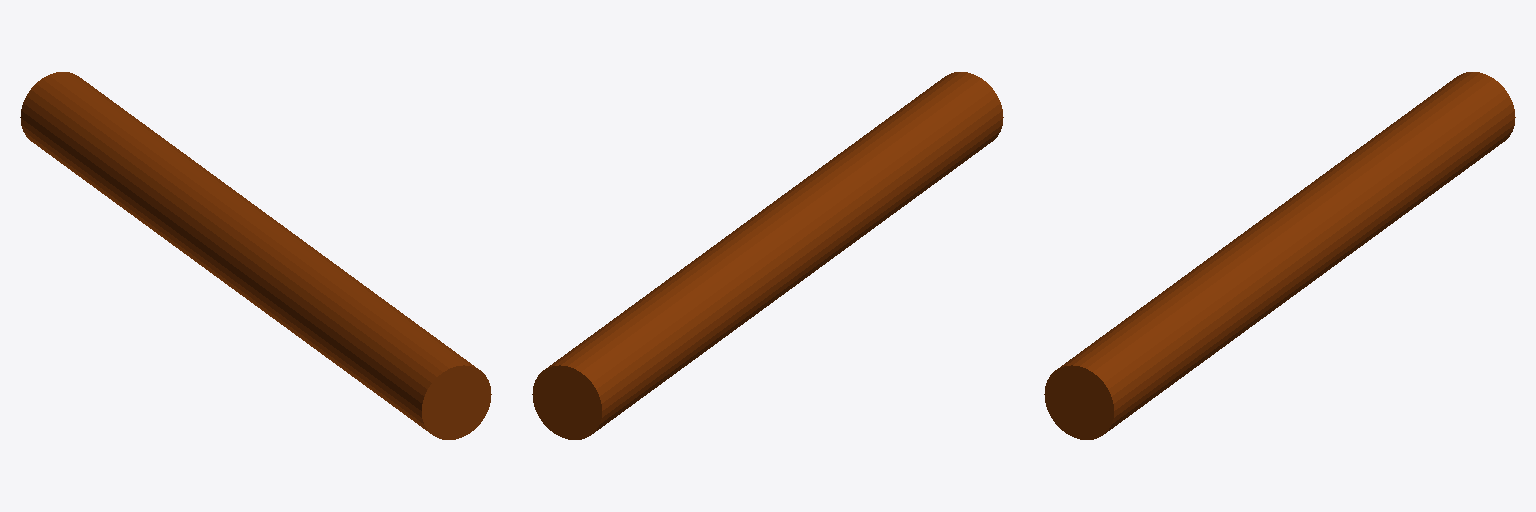
The robot description file, URDF, robot "cylinder":
<?xml version="1.0" ?>
<!-- =================================================================================== -->
<!-- |    This document was autogenerated by xacro from cylinder.xacro                 | -->
<!-- |    EDITING THIS FILE BY HAND IS NOT RECOMMENDED                                 | -->
<!-- =================================================================================== -->
<robot name="cylinder">
  <link name="world"/>
  <link name="base">
    <visual>
      <origin rpy="1.57079633 0 0" xyz="0 0 0"/>
      <geometry>
        <cylinder length="7.07106781185" radius="0.355"/>
      </geometry>
      <material name="cylinder_material">
        <color rgba="0.545 0.271 0.075 1.0"/>
        <texture filename="../textures/tree_bark.jpg"/>
      </material>
    </visual>
    <collision>
      <origin rpy="1.57079633 0 0" xyz="0 0 0"/>
      <geometry>
        <cylinder length="7.07106781185" radius="0.355"/>
      </geometry>
    </collision>
    <inertial>
      <origin rpy="0 0 0" xyz="0 0 0"/>
      <mass value="1"/>
      <inertia ixx="4.198172916648429" ixy="0.0" ixz="0.0" iyy="4.198172916648429" iyz="0.0" izz="24.999999999890573"/>
    </inertial>
  </link>
  <joint name="base_joint" type="fixed">
    <parent link="world"/>
    <child link="base"/>
    <origin rpy="0 0 0" xyz="0.0 0.0 0.0"/>
  </joint>
</robot>

--- What the picture shows (computed from the rendered views, not written in the file) ---
The picture shows the robot from 3 angles, left to right: view 1: azimuth 30°, elevation 25°; view 2: azimuth 150°, elevation 25°; view 3: azimuth 330°, elevation 25°; orthographic projection.
Robot: cylinder — 2 links, 1 joints (1 fixed); root link world; default pose: every joint at zero.
Visible links, largest first — view 1: base; view 2: base; view 3: base.
Link boxes in pixels (x1,y1,x2,y2): base: (20,72,491,439); base: (532,72,1003,439); base: (1044,72,1515,439).
Size in the robot's own frame: 0.71 by 7.07 by 0.71 metres.
Geometry: primitives only (box / cylinder / sphere), no mesh files.
